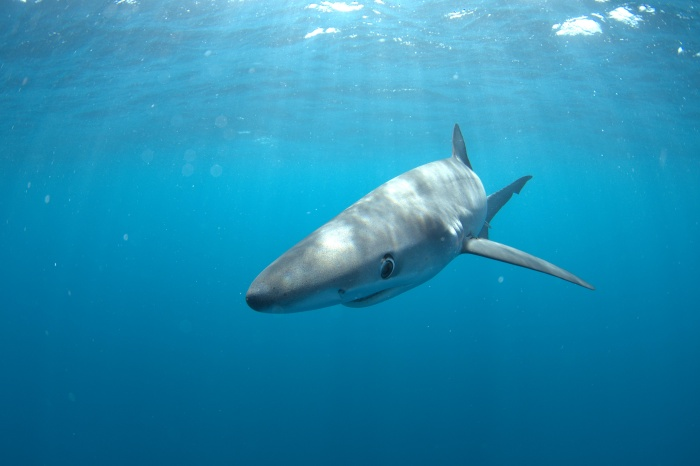Azul: (177, 96, 619, 331)
